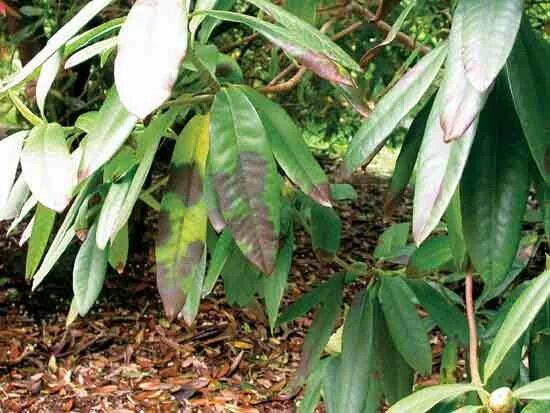late_blight: (214, 151, 278, 273), (157, 258, 185, 318), (300, 53, 352, 84), (169, 164, 204, 205), (176, 240, 204, 275), (157, 212, 175, 245), (306, 183, 329, 205)
